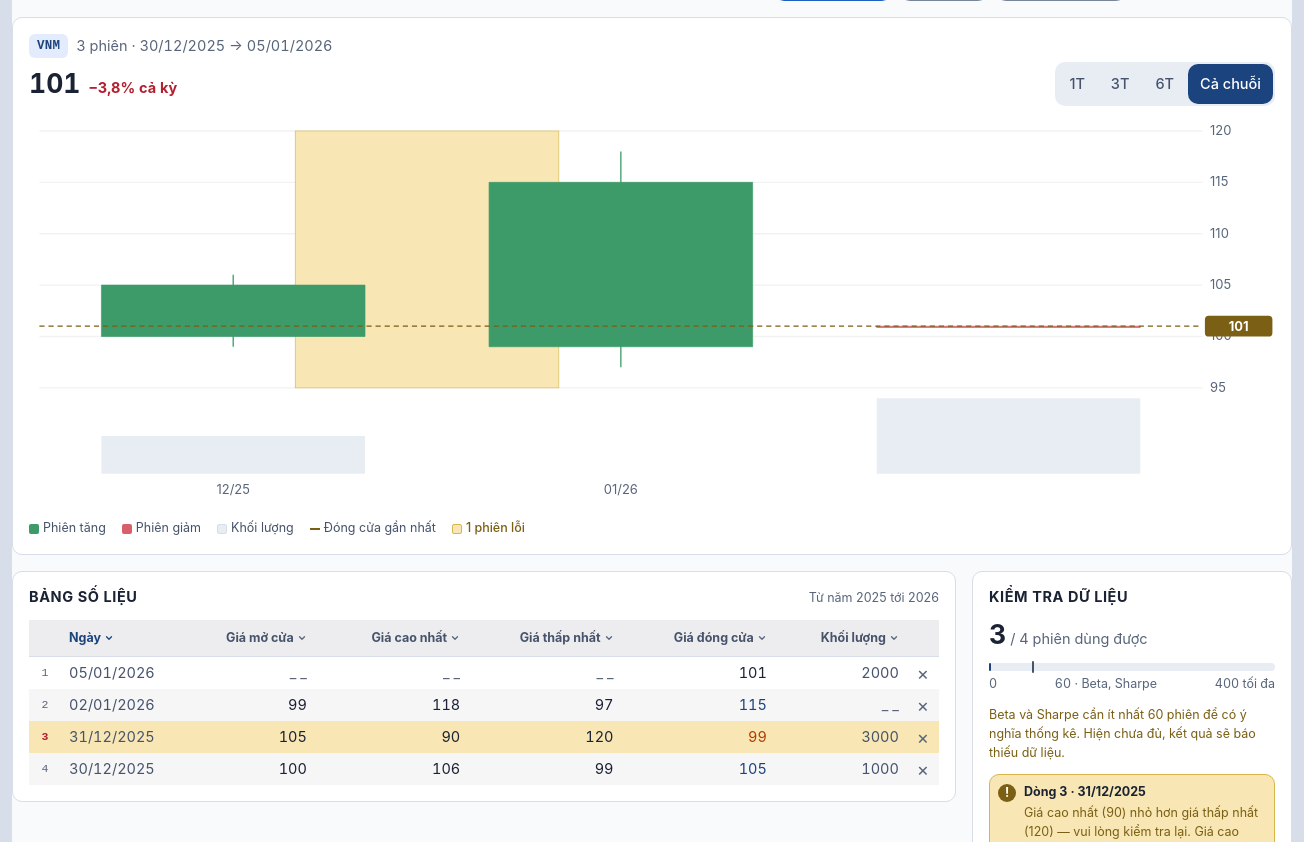
Scenario: DataTableScreen — bảng theo khuôn lưới "Bảng dữ liệu" › cột kiểm gọi đúng số dòng đang thấy khi bảng đang xếp
Expected: the field named "Dòng 1 · Ngày" is shown, [61, 657, 183, 689]
Xếp theo Đóng giảm dần: 99 là giá nhỏ nhất, phiên hỏng xuống dòng 4.
Click the button "Giá đóng cửa" at (698, 638), box [622, 620, 775, 656]
(page scrolled)
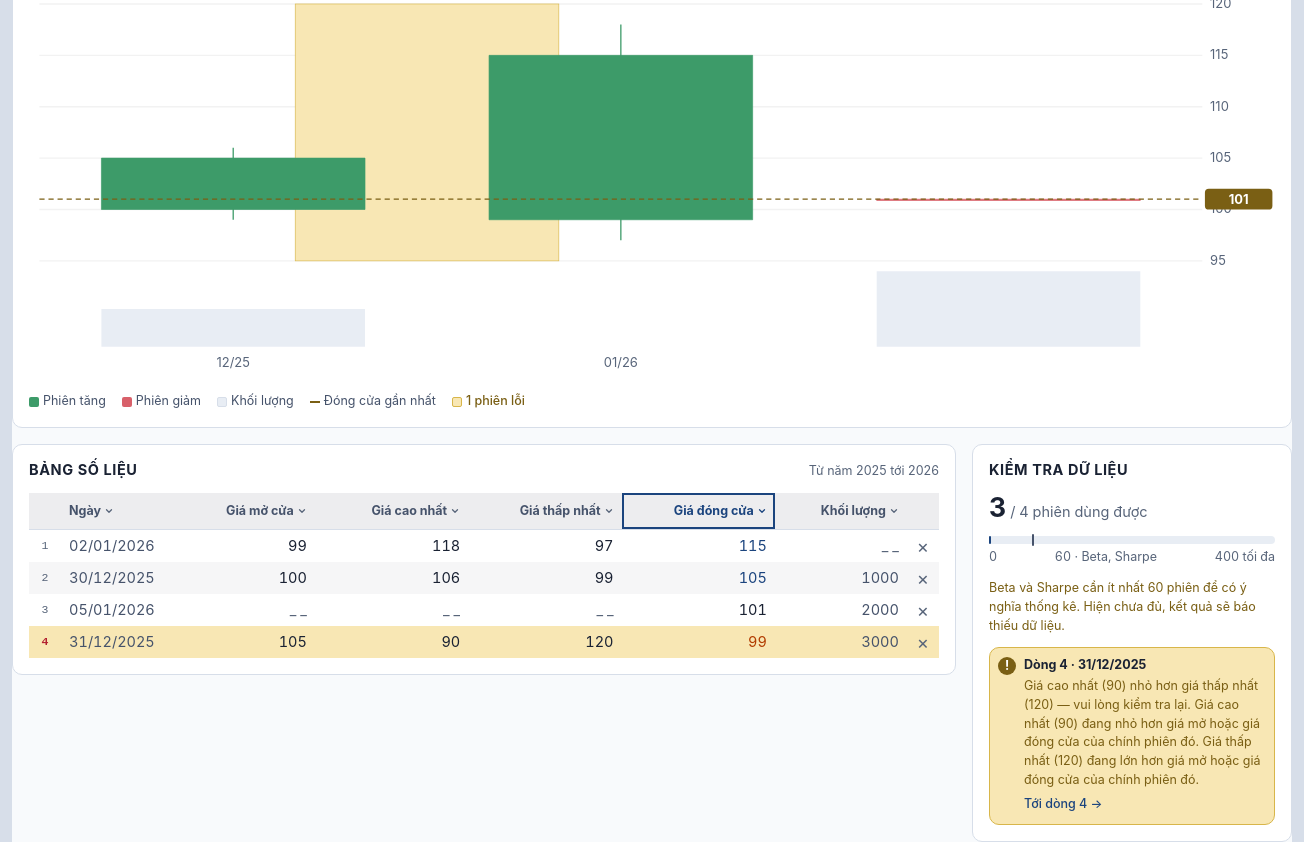
Expected: the button "Tới dòng 4 →" is shown, [1024, 792, 1102, 816]
